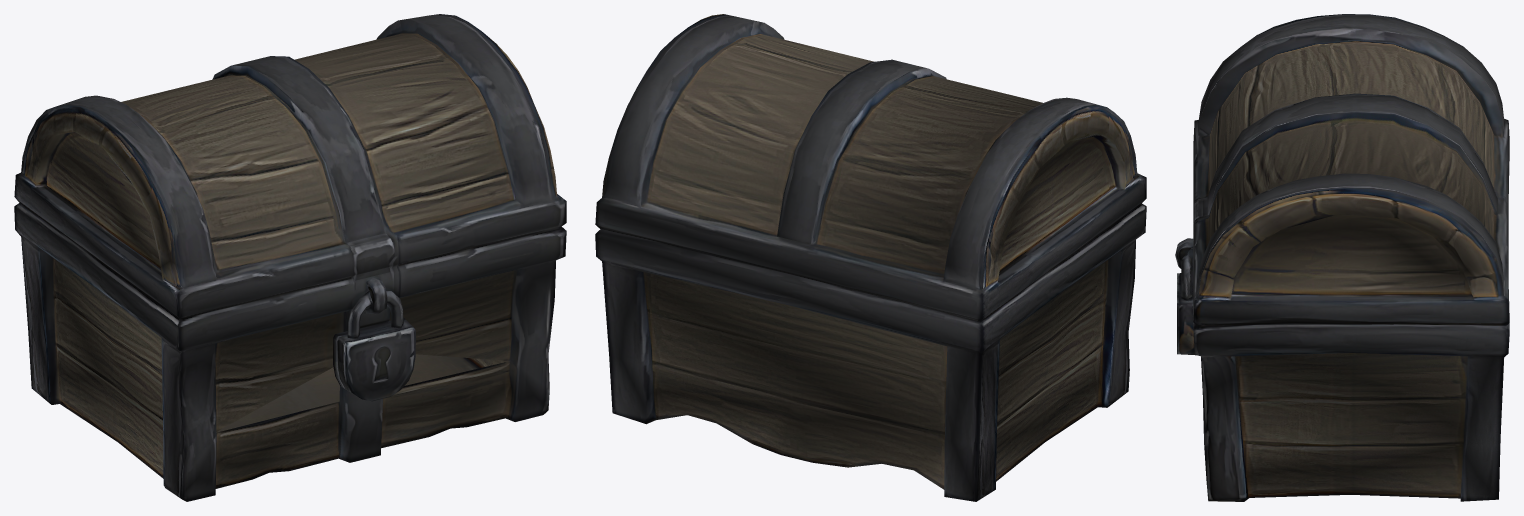
File: forziere.glb
The picture shows the model from 3 angles, left to right: view 1: azimuth 30°, elevation 25°; view 2: azimuth 150°, elevation 25°; view 3: azimuth 270°, elevation 25°; orthographic projection. The views are drawn at different scales.
Visible parts, largest first — view 1: forziere; view 2: forziere; view 3: forziere.
Part boxes in pixels (<box>): forziere: <box>14,14,566,501</box>; forziere: <box>595,14,1146,501</box>; forziere: <box>1175,14,1509,501</box>.
Bounding box in the file's own units: 0.9995 × 0.8052 × 0.769.
Materials: 1 (1 with a texture image).
